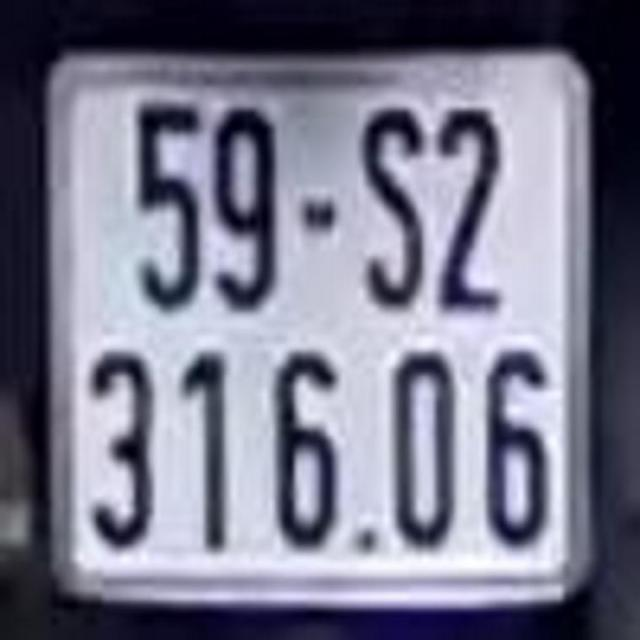0: (388, 352, 455, 546)
1: (181, 352, 232, 551)
2: (435, 107, 506, 312)
3: (87, 356, 156, 546)
5: (131, 100, 201, 308)
6: (272, 345, 340, 545), (480, 352, 547, 542)
9: (209, 102, 281, 310)
S: (356, 106, 431, 312)
